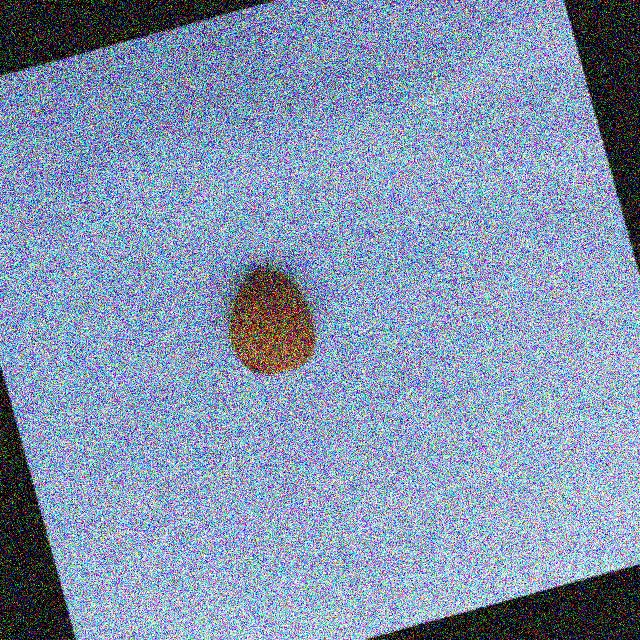grade1: (206, 249, 336, 393)
